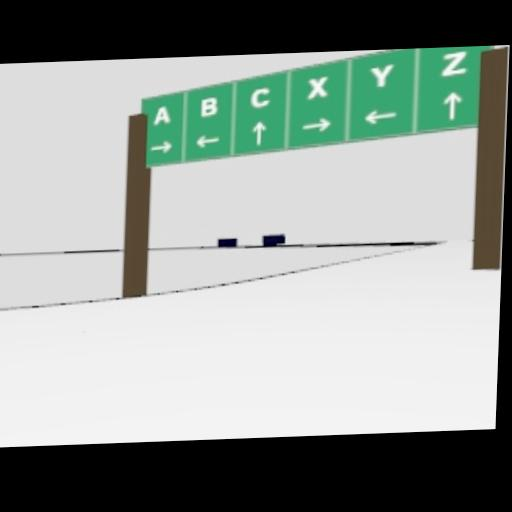A: (153, 104, 172, 127)
B: (199, 96, 220, 120)
C: (248, 86, 272, 110)
Left: (364, 108, 398, 126), (198, 135, 221, 149)
Right: (149, 137, 176, 157), (303, 116, 331, 134)
Straight: (442, 89, 465, 121), (251, 120, 268, 146)
X: (306, 75, 329, 100)
Y: (369, 62, 395, 87)
Z: (441, 51, 468, 79)
